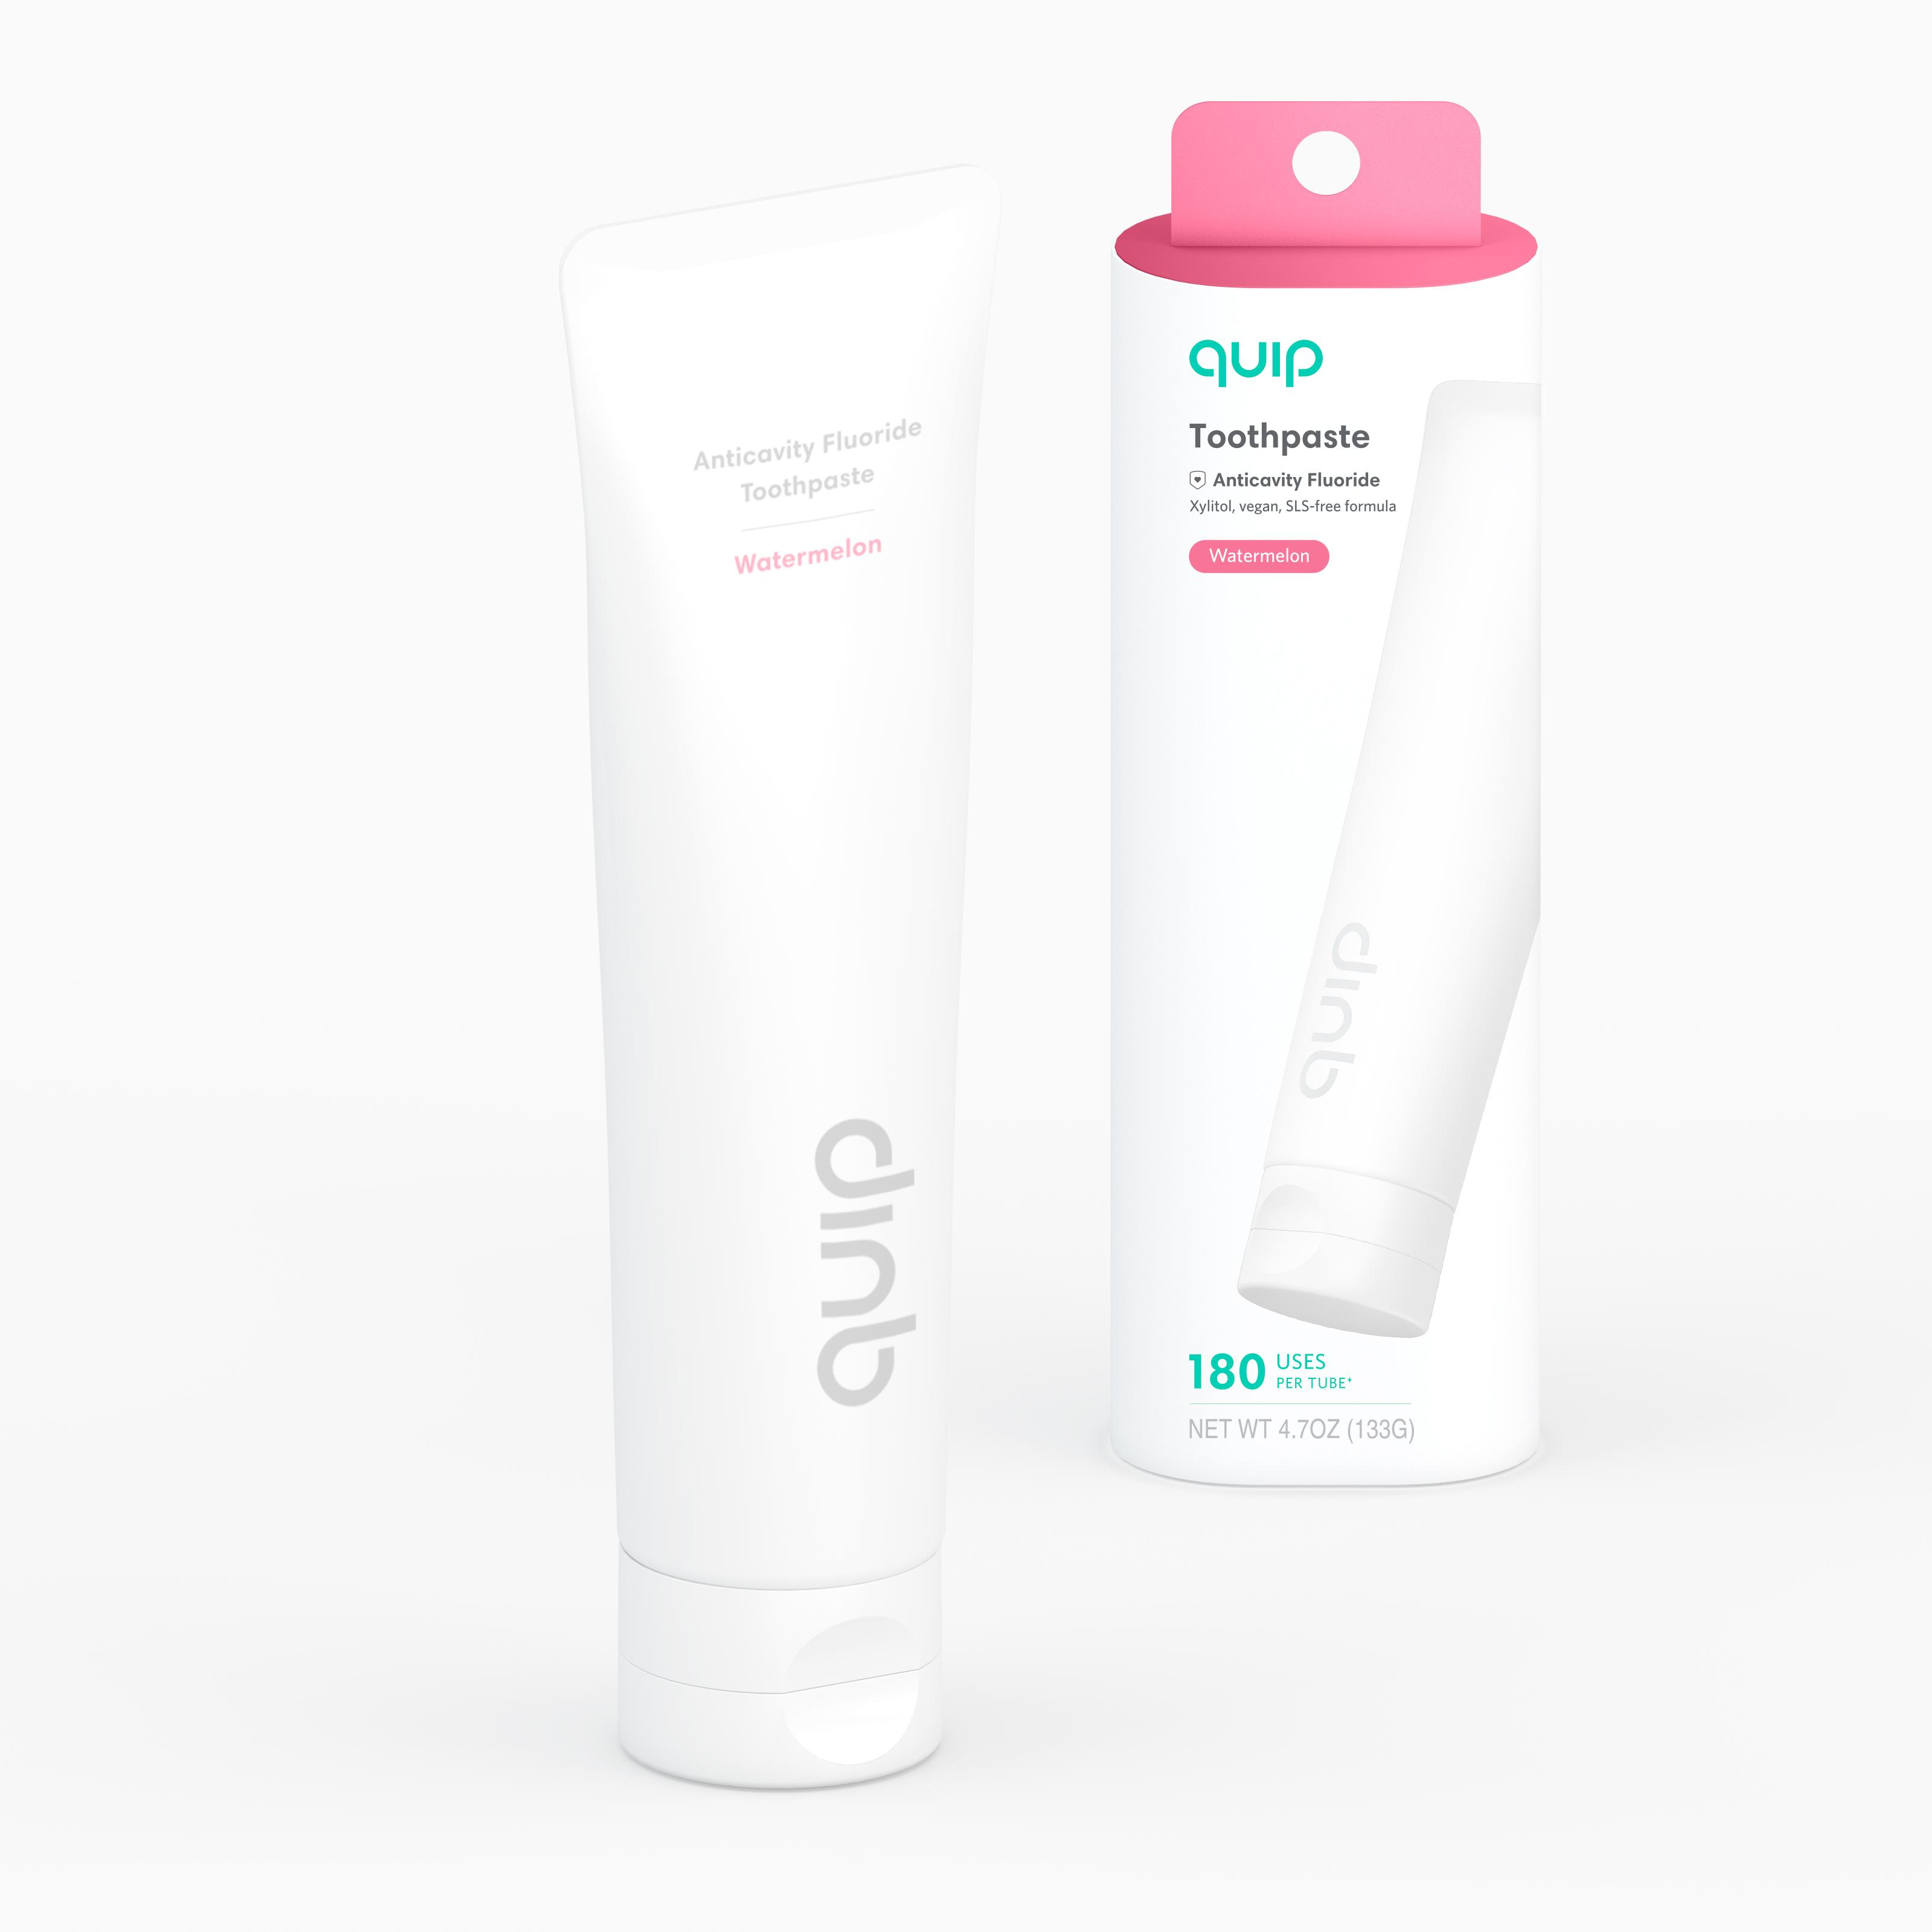toothpaste: (533, 209, 1033, 1808)
